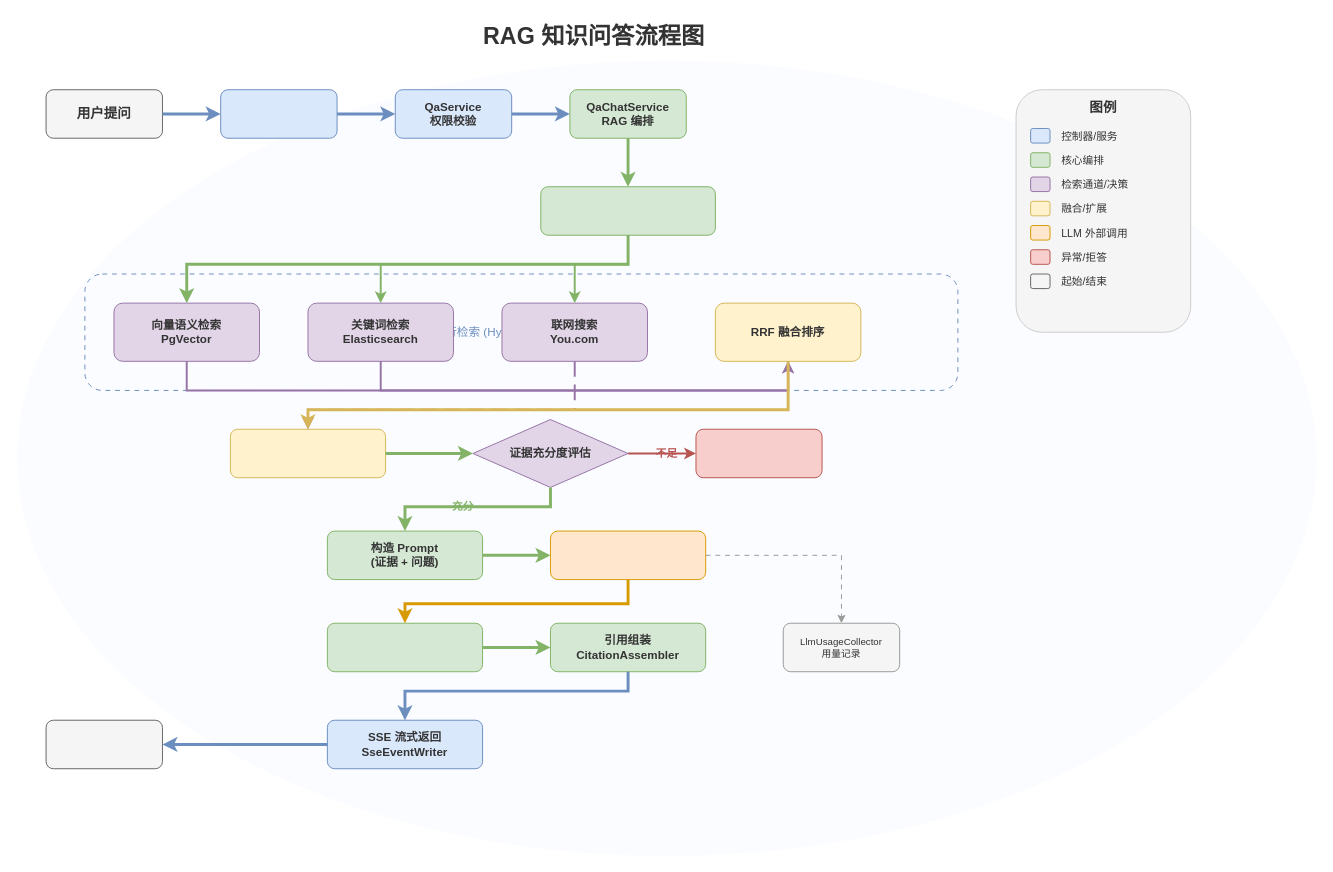
This 1333x872 diagram has some shape labels left out. The centre of each missing label's shape, as x and y in pixels:
LLM 生成回答 (Qwen-Plus): the point at 628,555
QaController SSE 端点: the point at 278,113
回答解析 QaAnswerParser: the point at 404,647
查询规划 QueryPlanningService: the point at 627,210
用户收到回答: the point at 103,744
证据不足 返回拒答: the point at 758,453
邻居窗口扩展 + 聚类分组: the point at 307,453
